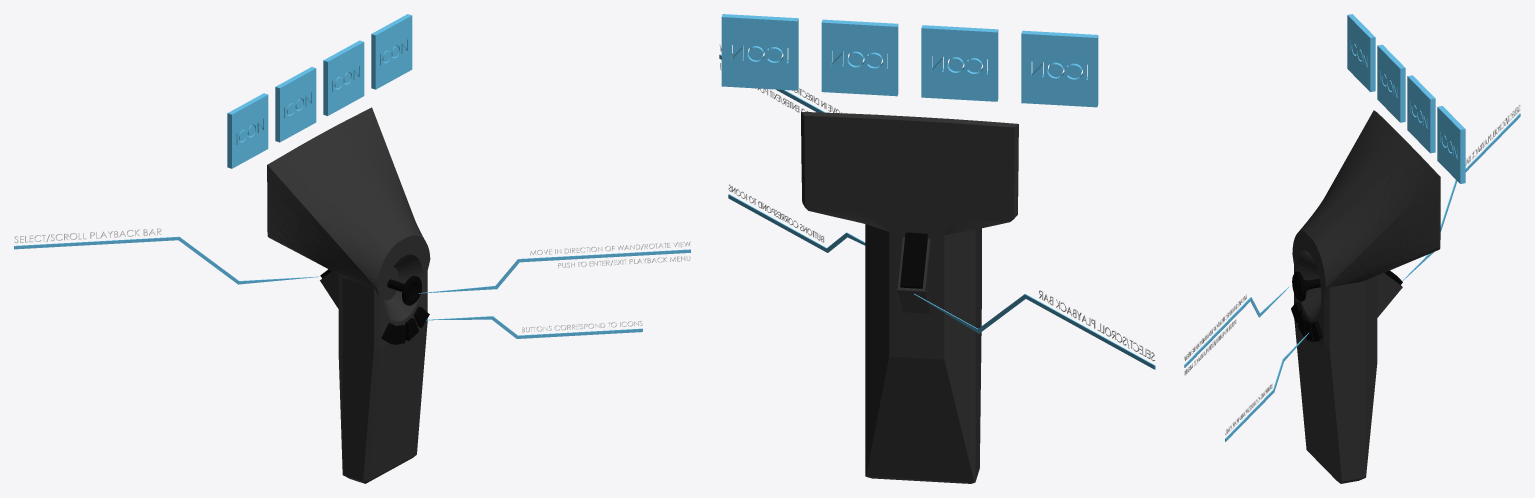
The model's file is Wand_Diagram.obj.
The picture shows the model from 3 angles, left to right: view 1: azimuth 30°, elevation 25°; view 2: azimuth 150°, elevation 25°; view 3: azimuth 270°, elevation 25°; orthographic projection. The views are drawn at different scales.
Visible parts, largest first — view 1: Wand_ptrs; view 2: Wand_ptrs; view 3: Wand_ptrs.
Part boxes in pixels (left/top/right/bottom): Wand_ptrs: left=14, top=14, right=690, bottom=483; Wand_ptrs: left=719, top=14, right=1155, bottom=483; Wand_ptrs: left=1184, top=14, right=1520, bottom=483.
Bounding box in the file's own units: 3.43 × 2.48 × 1.97.
